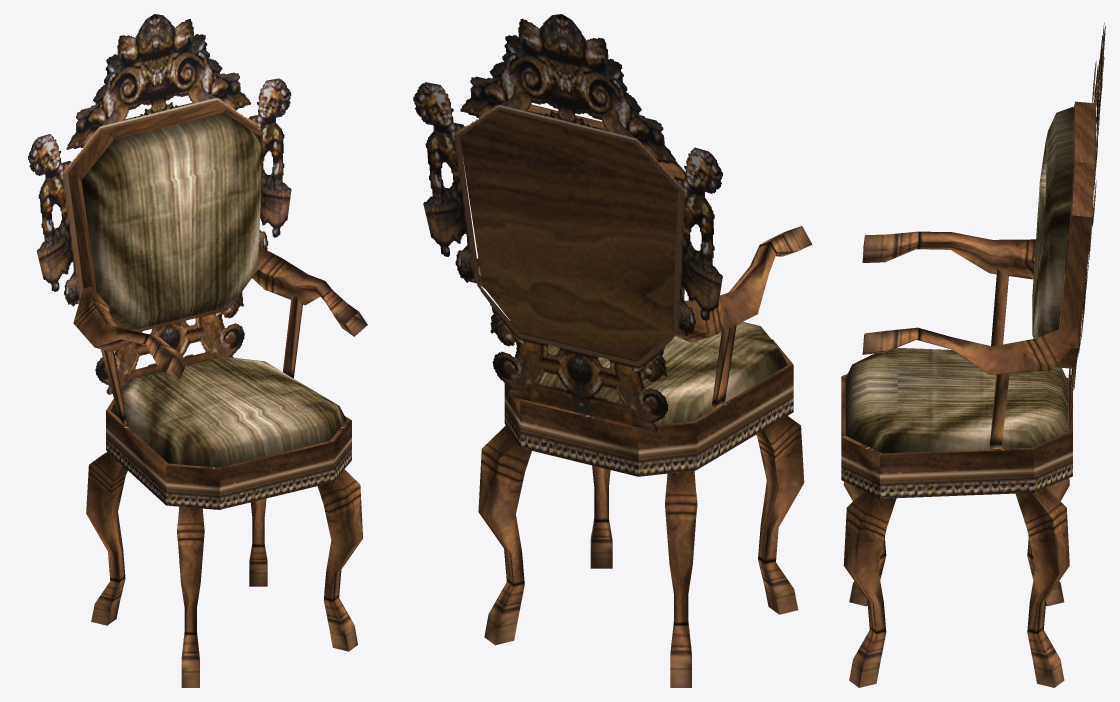
File: Chair03.glb
The picture shows the model from 3 angles, left to right: view 1: azimuth 30°, elevation 25°; view 2: azimuth 150°, elevation 25°; view 3: azimuth 270°, elevation 25°; orthographic projection. The views are drawn at different scales.
Parts seen in each view (by area): view 1: _Chair03; view 2: _Chair03; view 3: _Chair03.
Boxes of the visible parts, bbox=[...] form: _Chair03: bbox=[28, 14, 367, 687]; _Chair03: bbox=[413, 14, 812, 687]; _Chair03: bbox=[841, 22, 1105, 687].
Size of the model in its own units: 1.09 by 2.03 by 0.7913.
1 material, 1 textured.
